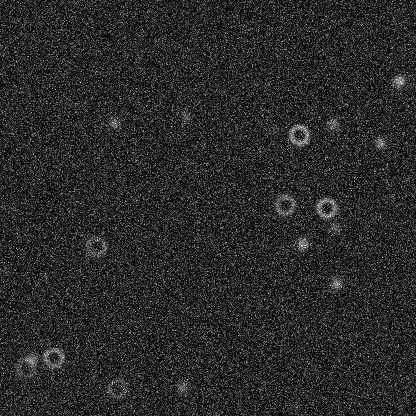Ring: (286, 122, 310, 146), (84, 233, 108, 257), (272, 192, 296, 216), (41, 345, 65, 369), (13, 355, 37, 379), (314, 195, 338, 219), (105, 376, 129, 400)
Spot: (23, 350, 39, 366), (267, 120, 283, 136), (371, 134, 387, 150), (294, 235, 310, 251), (174, 379, 190, 395), (328, 275, 344, 291), (177, 107, 193, 123), (106, 114, 122, 130), (391, 72, 407, 88), (326, 218, 342, 234), (324, 115, 340, 131)
